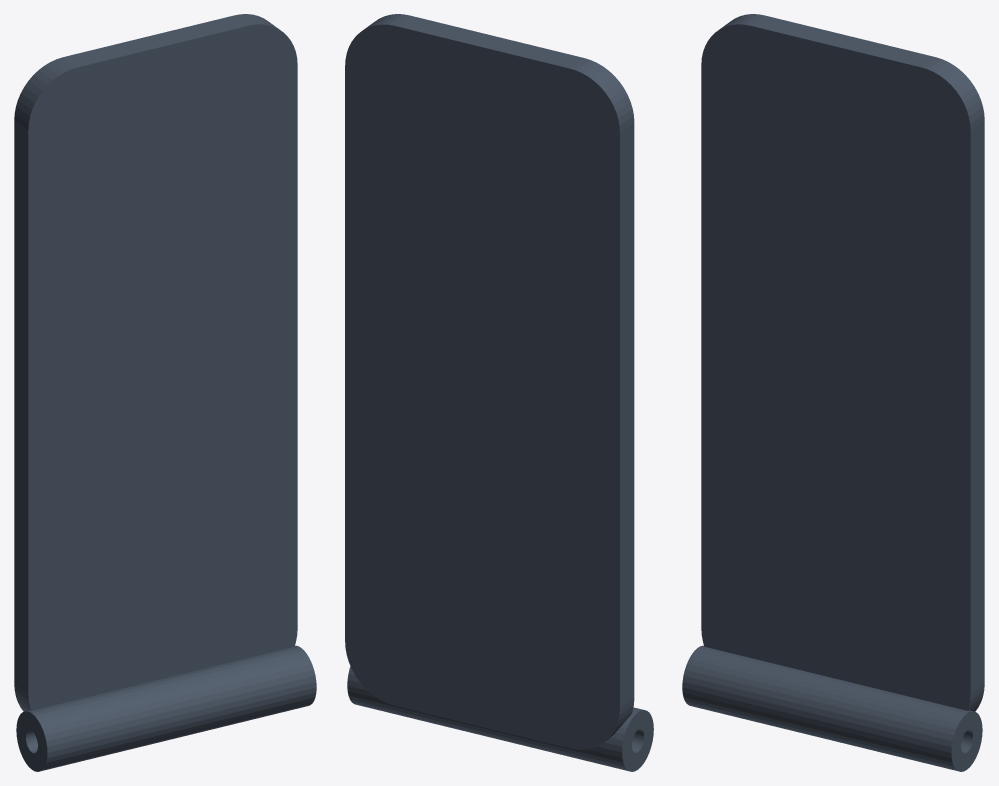
File: strap-30.glb
The picture shows the model from 3 angles, left to right: view 1: azimuth 30°, elevation 25°; view 2: azimuth 150°, elevation 25°; view 3: azimuth 330°, elevation 25°; orthographic projection. The views are drawn at different scales.
Visible parts, largest first — view 1: strap-30; view 2: strap-30; view 3: strap-30.
Boxes of the visible parts, left/top/right/bottom form: strap-30: left=14, top=14, right=316, bottom=771; strap-30: left=345, top=14, right=653, bottom=771; strap-30: left=682, top=14, right=984, bottom=771.
Bounding box in the file's own units: 22 × 53.7 × 4.7.
